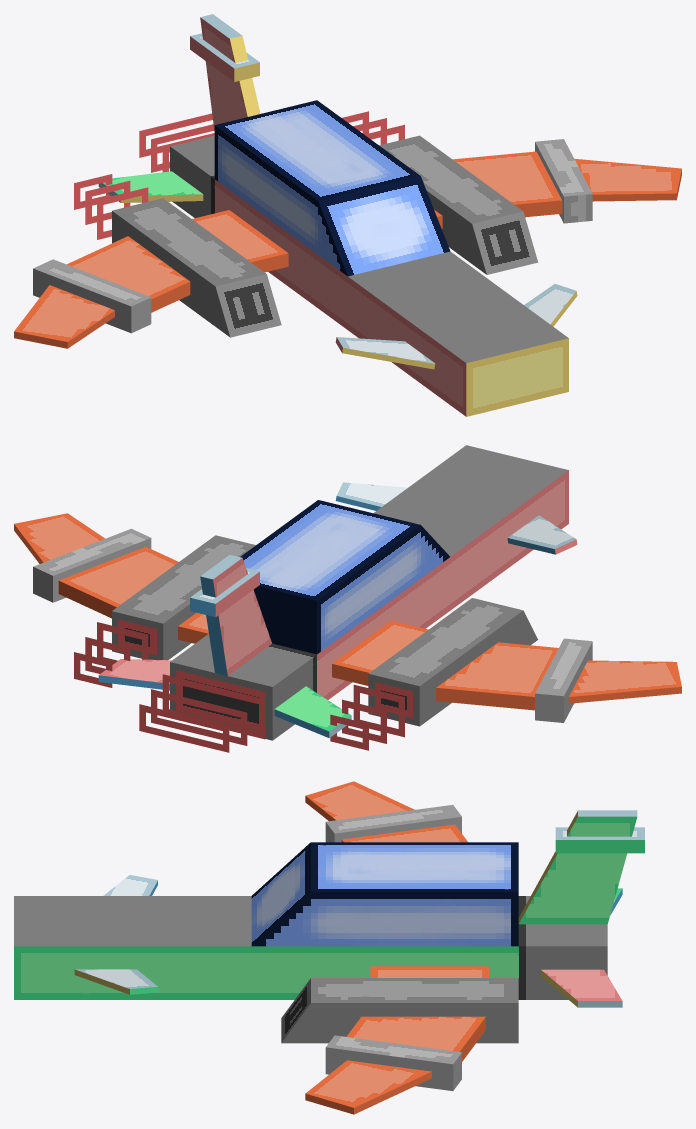
Rendered from spaceship.gltf.
The picture shows the model from 3 angles, top to bottom: view 1: azimuth 30°, elevation 25°; view 2: azimuth 150°, elevation 25°; view 3: azimuth 270°, elevation 25°; orthographic projection.
Visible parts, largest first — view 1: body, cockpit, wings_right, wings_left, mesh (×3), plane (×4); view 2: body, wings_right, cockpit, wings_left, mesh (×4), plane (×9); view 3: body, cockpit, wings_left, mesh (×3), wings_right.
Boxes of the visible parts, x1,y1,x2,y2 form: body: (170,135,577,416); cockpit: (214,100,450,276); wings_right: (14,198,288,348); wings_left: (379,135,681,274); mesh (×3): (98,14,260,202); plane (×4): (85,113,214,239); body: (170,445,577,740); wings_right: (332,598,681,726); cockpit: (240,500,449,654); wings_left: (14,513,255,660); mesh (×4): (98,555,351,738); plane (×9): (74,622,404,752); body: (14,875,607,999); cockpit: (251,842,518,946); wings_left: (281,966,518,1114); mesh (×3): (518,810,644,1007); wings_right: (305,781,467,842).
Size of the model in its own units: 3.25 by 0.75 by 2.81.
Materials: 1 (1 with a texture image).
